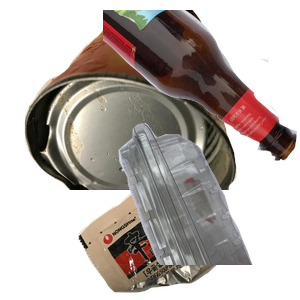glass: (103, 10, 300, 163)
metal: (22, 10, 251, 190)
plastic: (71, 120, 300, 300)
trash: (76, 170, 300, 300)
